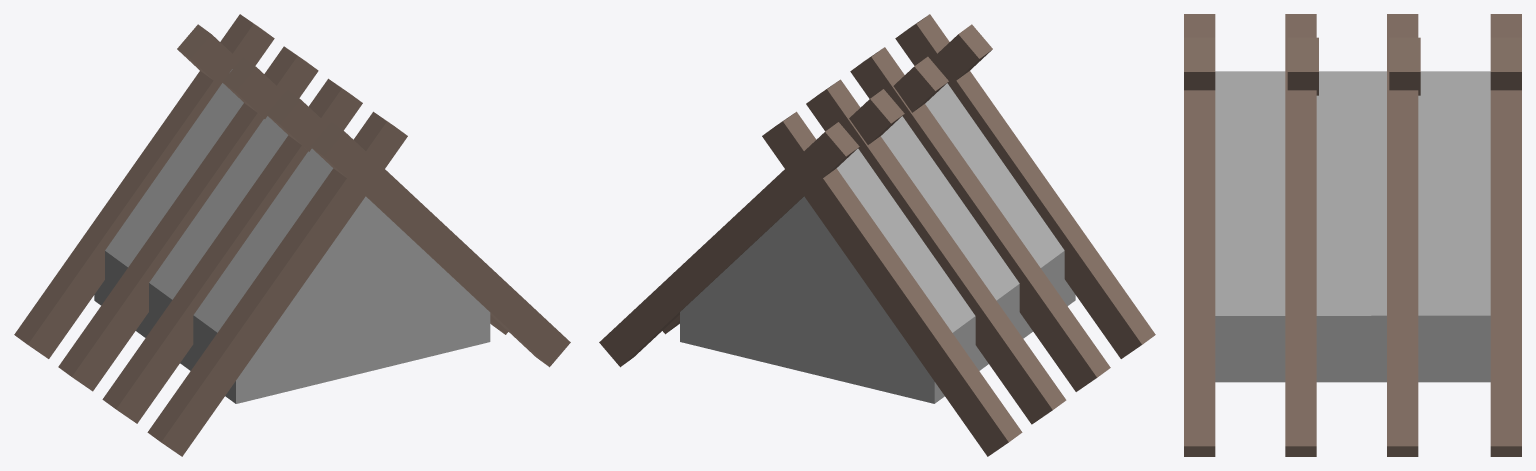
File: House03.fbx
3 views of the same model, side by side, from view 1: azimuth 30°, elevation 25°; view 2: azimuth 150°, elevation 25°; view 3: azimuth 270°, elevation 25° (orthographic). The views are drawn at different scales.
Visible parts, largest first — view 1: pCube260; view 2: pCube260; view 3: pCube260.
Part boxes in pixels (left/top/right/bottom): pCube260: left=14, top=14, right=570, bottom=456; pCube260: left=599, top=14, right=1155, bottom=456; pCube260: left=1184, top=14, right=1521, bottom=456.
Size of the model in its own units: 0.7195 by 0.4789 by 0.4469.
